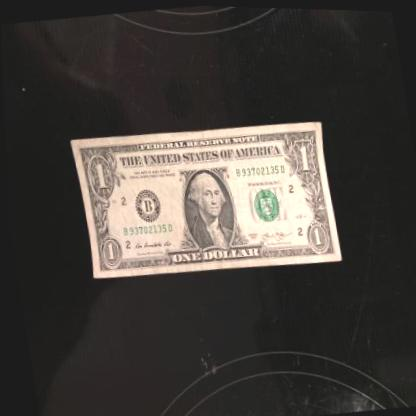one-front: (67, 107, 342, 289)
